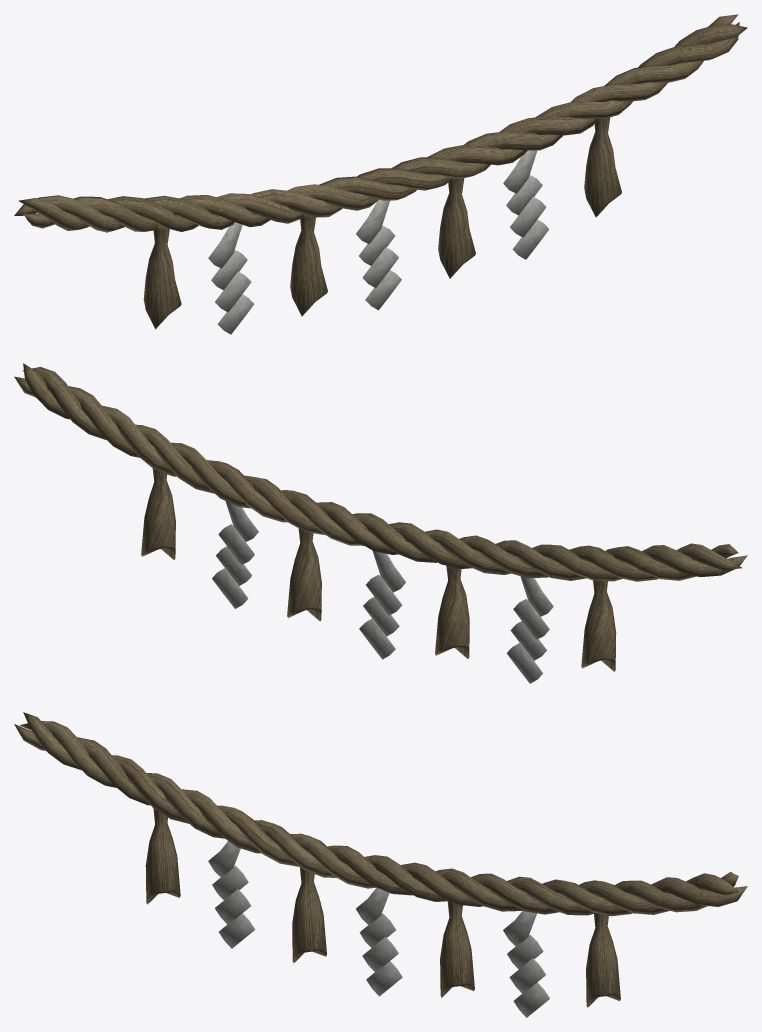
The model's file is Simenawa_Difault.fbx.
3 views of the same model, one above another, from view 1: azimuth 30°, elevation 25°; view 2: azimuth 150°, elevation 25°; view 3: azimuth 330°, elevation 25° (orthographic).
Parts seen in each view (by area): view 1: Simenawa; view 2: Simenawa; view 3: Simenawa.
Part boxes in pixels (x1,y1,x2,y2): Simenawa: [14, 14, 747, 334]; Simenawa: [14, 363, 747, 683]; Simenawa: [14, 712, 747, 1017].
Bounding box in the file's own units: 2.68 × 0.7326 × 0.12.
